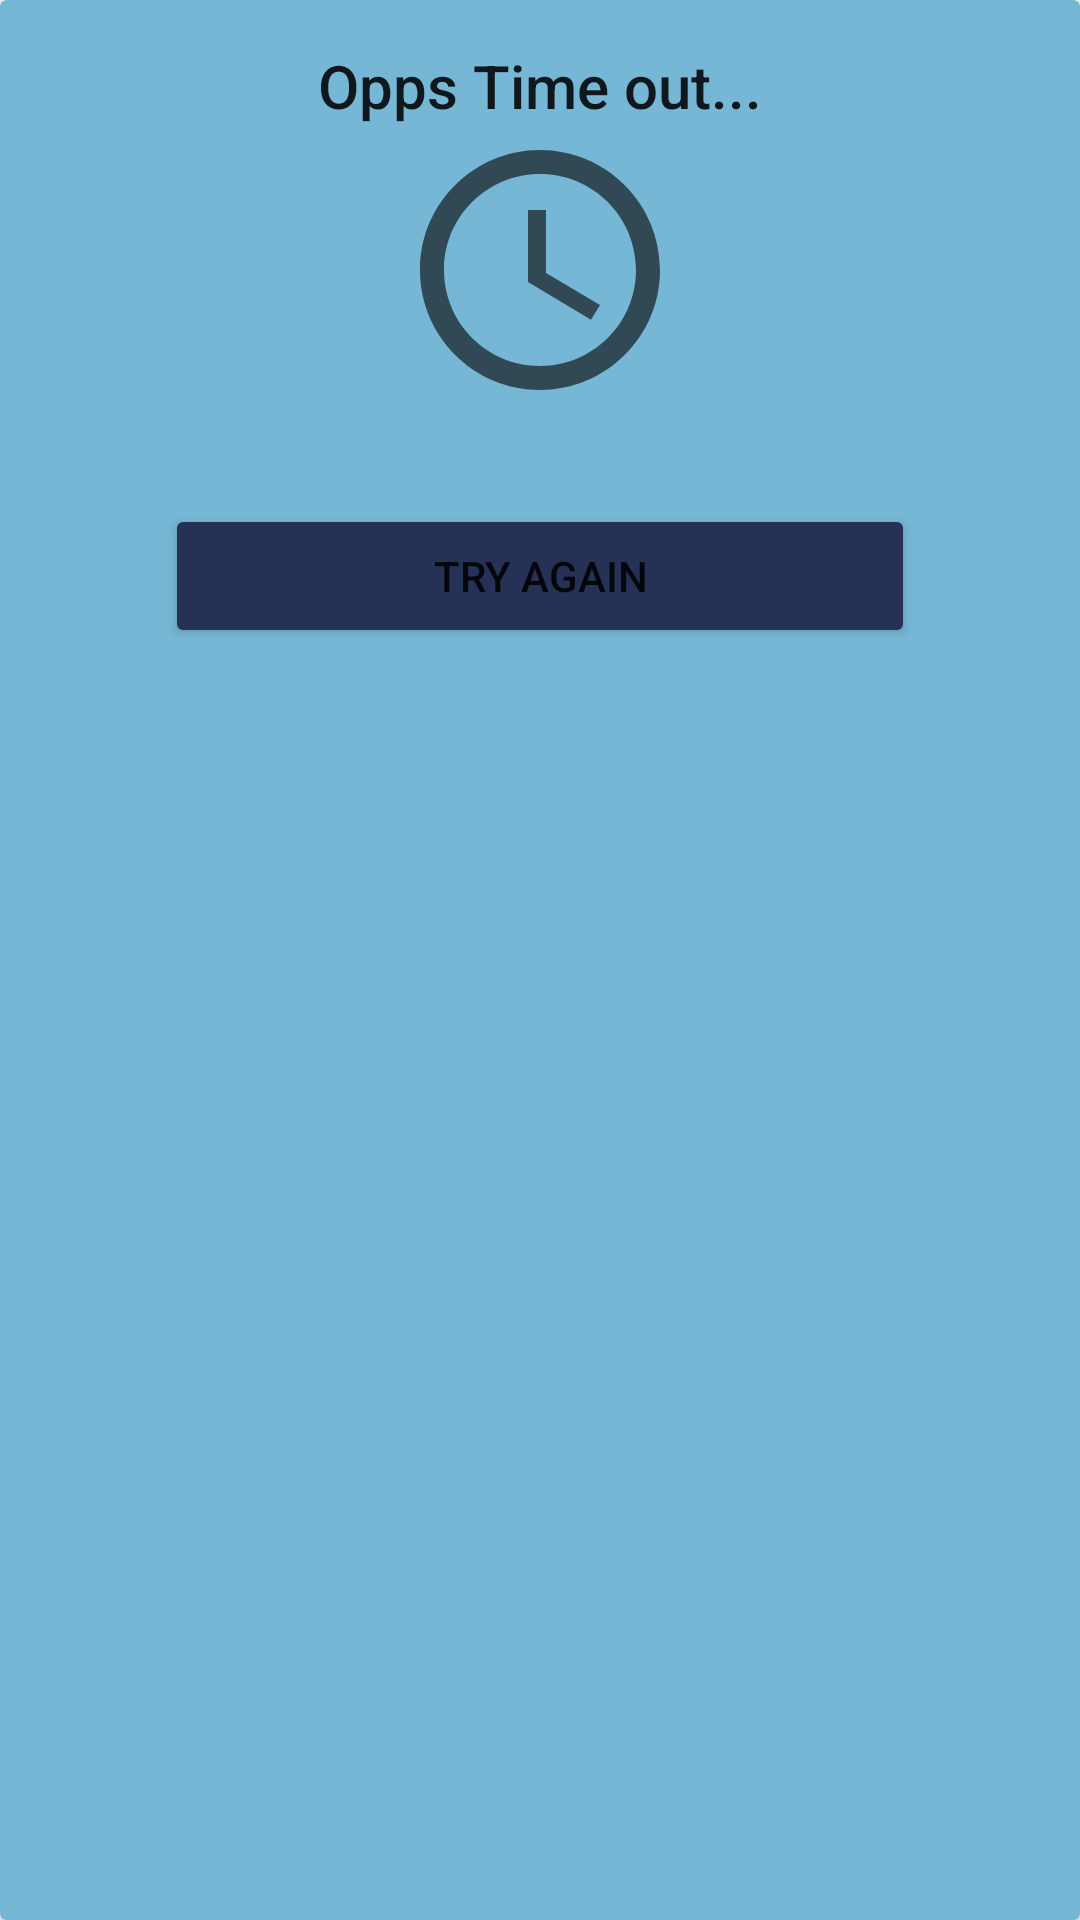

Locate icon controls on the screen. Image size 1080 × 1920, boxes as box(x1, y1, x2, y2).
access time: box(420, 150, 660, 390)
